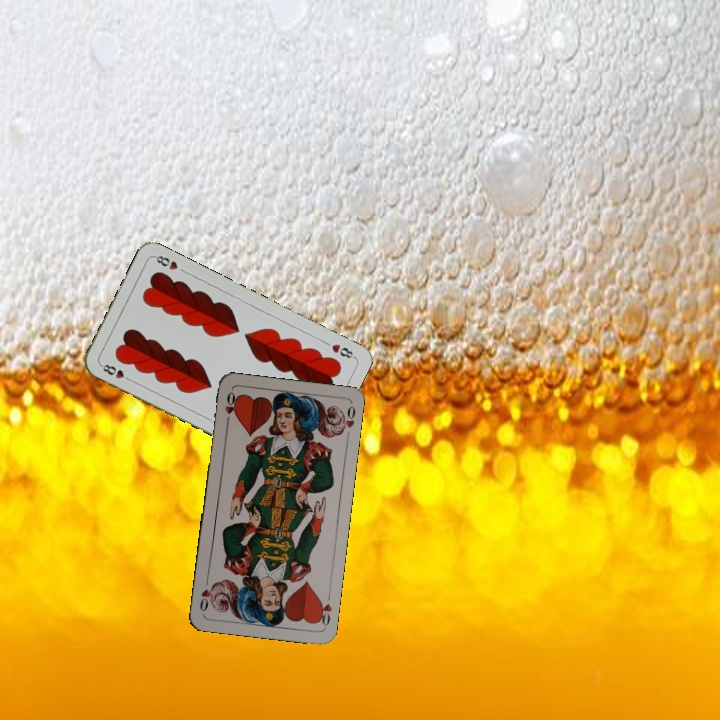H8: (319, 337, 357, 361), (97, 360, 134, 384)
HO: (313, 596, 335, 629), (221, 388, 238, 428)
